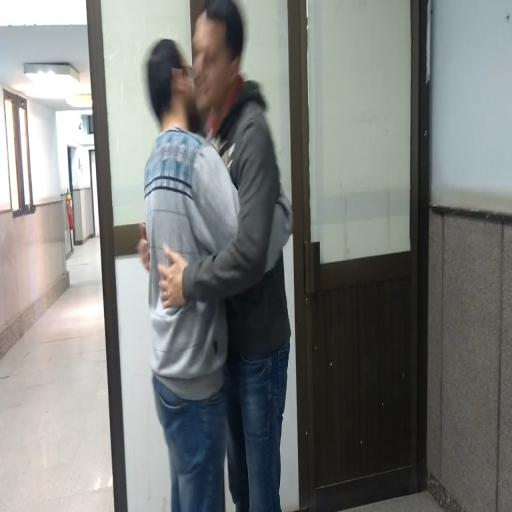nao-violencia: (128, 0, 299, 512)
